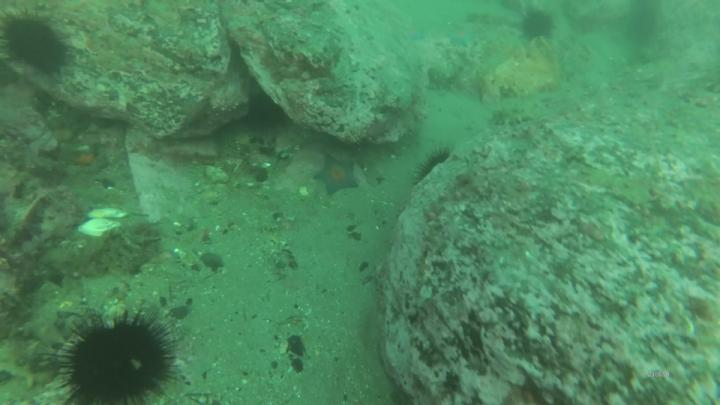echinus: (66, 315, 172, 405), (2, 11, 69, 86), (517, 7, 554, 44)
scallop: (82, 205, 130, 239)
starfish: (313, 149, 362, 197), (444, 24, 481, 51), (406, 24, 431, 45)
